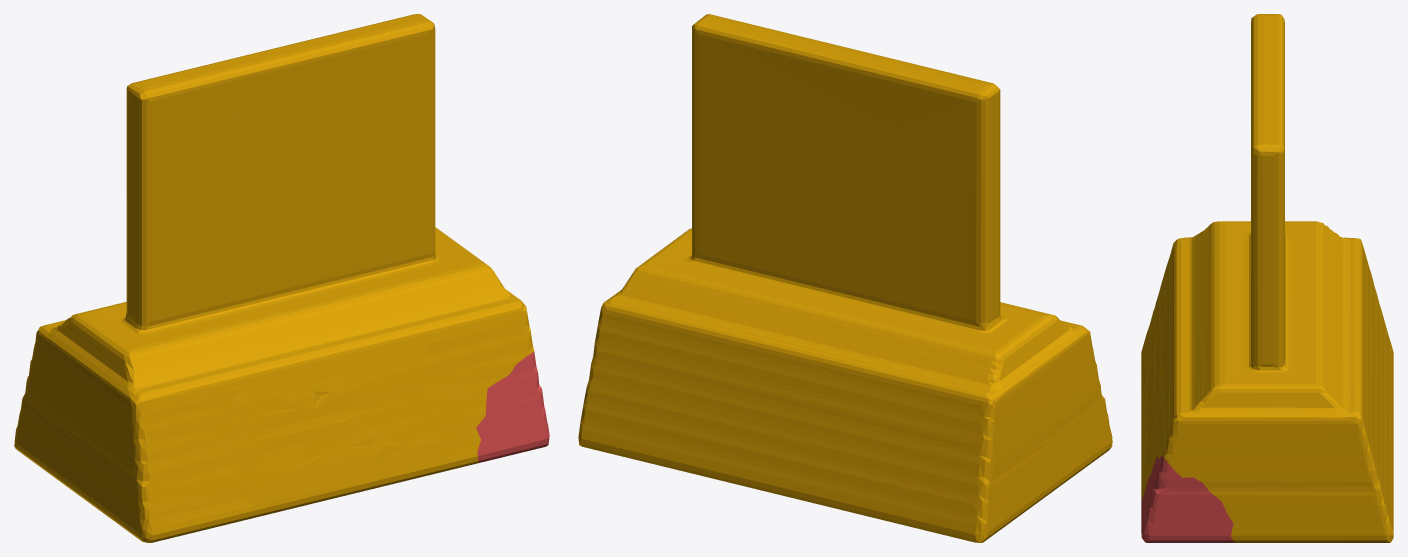
File: fractured_50_2pcs.glb
The picture shows the model from 3 angles, left to right: view 1: azimuth 30°, elevation 25°; view 2: azimuth 150°, elevation 25°; view 3: azimuth 270°, elevation 25°; orthographic projection. The views are drawn at different scales.
Visible parts, largest first — view 1: piece_0.obj, piece_1.obj; view 2: piece_0.obj; view 3: piece_0.obj, piece_1.obj.
Boxes of the visible parts, x1,y1,x2,y2 form: piece_0.obj: (14, 14, 534, 542); piece_1.obj: (476, 351, 549, 462); piece_0.obj: (578, 14, 1112, 542); piece_0.obj: (1141, 14, 1393, 542); piece_1.obj: (1141, 456, 1234, 542).
Bounding box in the file's own units: 1 × 0.9277 × 0.5692.
